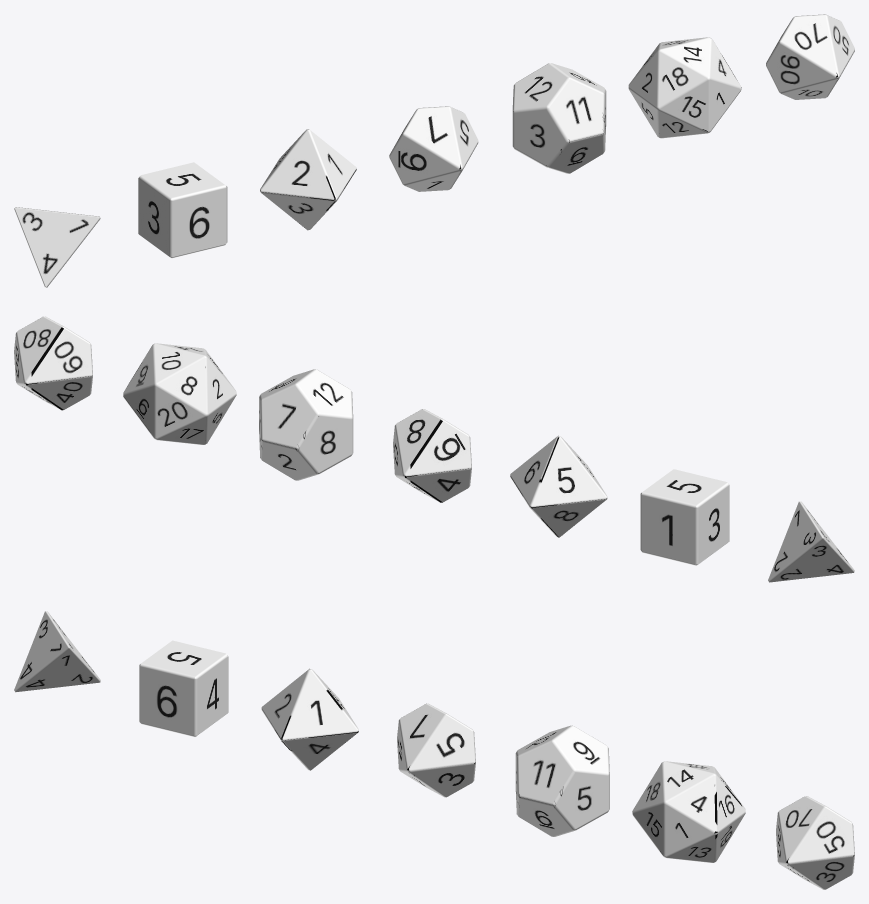
File: plain_white_diceset.glb
3 renders of one model, top to bottom at view 1: azimuth 30°, elevation 25°; view 2: azimuth 150°, elevation 25°; view 3: azimuth 330°, elevation 25°, orthographic.
Visible parts, largest first — view 1: d12, d20, d6, d10, d100, d8, d4; view 2: d12, d20, d6, d100, d10, d8, d4; view 3: d12, d20, d6, d10, d100, d8, d4.
Boxes of the visible parts, x1,y1,x2,y2 form: d12: (512, 63, 606, 173); d20: (628, 37, 741, 138); d6: (138, 162, 227, 258); d10: (389, 106, 478, 191); d100: (766, 14, 854, 99); d8: (260, 129, 356, 230); d4: (14, 207, 100, 287); d12: (259, 369, 353, 480); d20: (123, 343, 236, 444); d6: (640, 469, 729, 565); d100: (14, 316, 92, 410); d10: (393, 409, 471, 502); d8: (510, 435, 607, 537); d4: (768, 501, 854, 582); d12: (515, 725, 609, 836); d20: (632, 761, 745, 862); d6: (139, 640, 228, 736); d10: (397, 703, 475, 797); d100: (776, 796, 854, 889); d8: (261, 668, 358, 770); d4: (14, 611, 100, 692).
Bounding box in the file's own units: 16.37 × 1.89 × 1.89.
7 materials, 7 textured.
